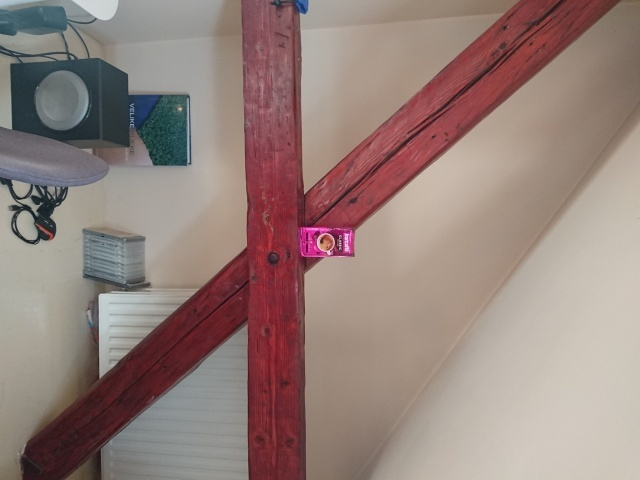Barcaffe Classic Original 225g: (298, 224, 357, 260)
